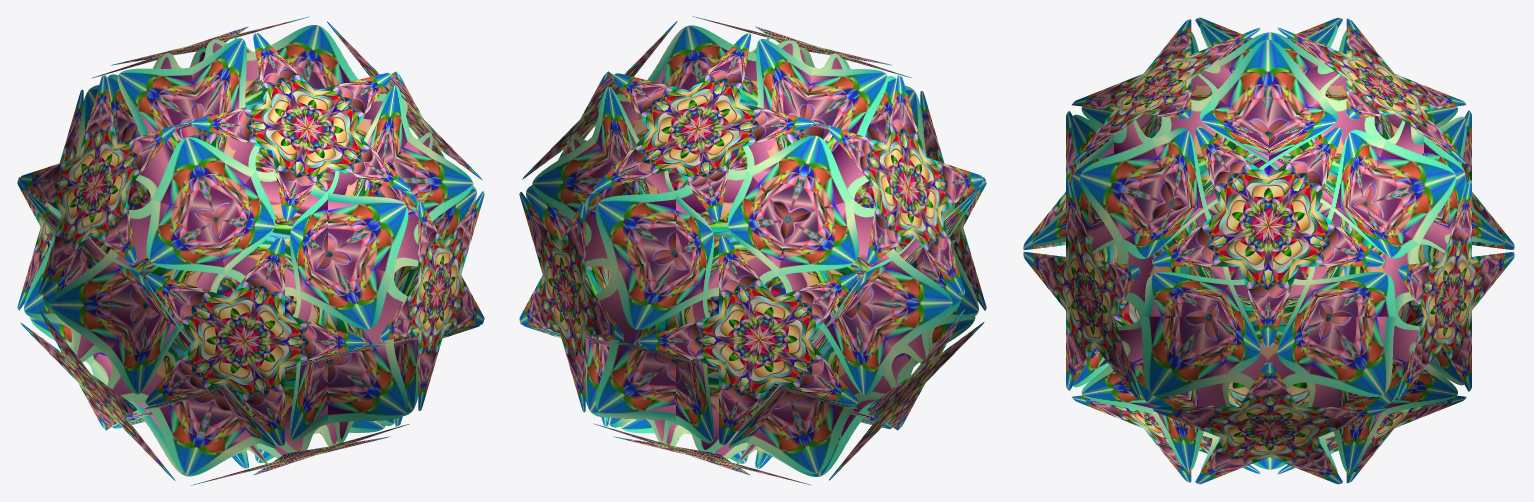
File: 13Dodecadodecahedron.gltf
The picture shows the model from 3 angles, left to right: view 1: azimuth 30°, elevation 25°; view 2: azimuth 150°, elevation 25°; view 3: azimuth 270°, elevation 25°; orthographic projection.
Parts seen in each view (by area): view 1: 7Dodecadodecahedron; view 2: 7Dodecadodecahedron; view 3: 7Dodecadodecahedron.
Part boxes in pixels (bbox=[...]): 7Dodecadodecahedron: bbox=[17, 16, 484, 485]; 7Dodecadodecahedron: bbox=[519, 16, 986, 485]; 7Dodecadodecahedron: bbox=[1023, 17, 1514, 484].
Bounding box in the file's own units: 2 × 2 × 2.
Materials: 1 (1 with a texture image).
